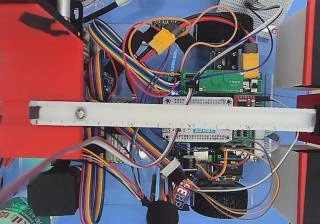ironball: (74, 108, 84, 117)
